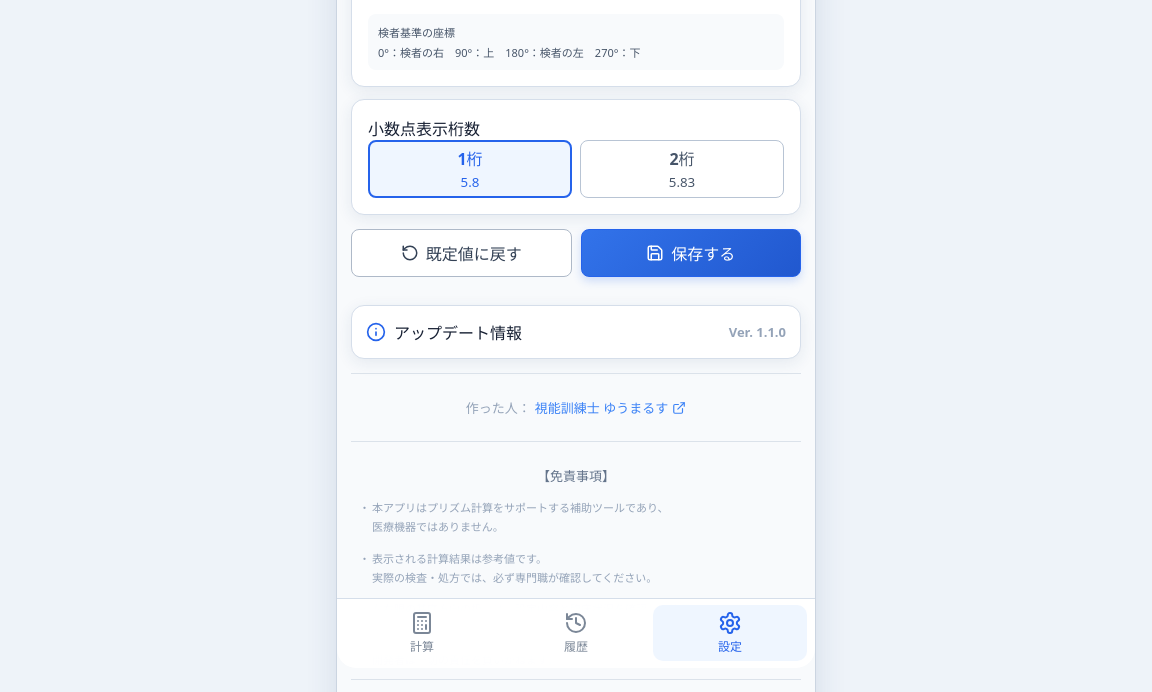
SettingsPage › アップデート履歴を最新順のモーダルで表示して閉じられる
(page scrolled)
Click the button "アップデート情報 Ver. 1.1.0" at (458, 333), box [351, 305, 801, 359]
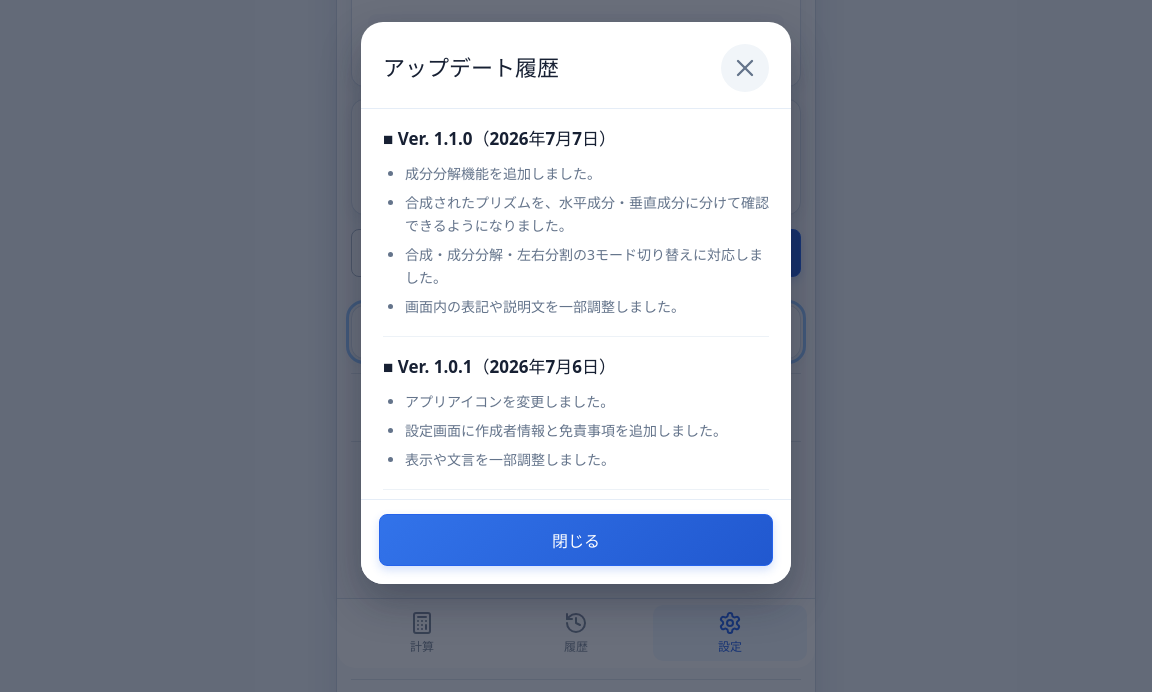
Expected: the dialog "アップデート履歴" is shown, [361, 22, 791, 584]
Expected: the list item "成分分解機能を追加しました。" is shown, [405, 164, 601, 183]
Expected: the list item "アプリアイコンを変更しました。" is shown, [405, 392, 614, 411]
Click the button "閉じる" at (576, 540), box [379, 514, 773, 566]
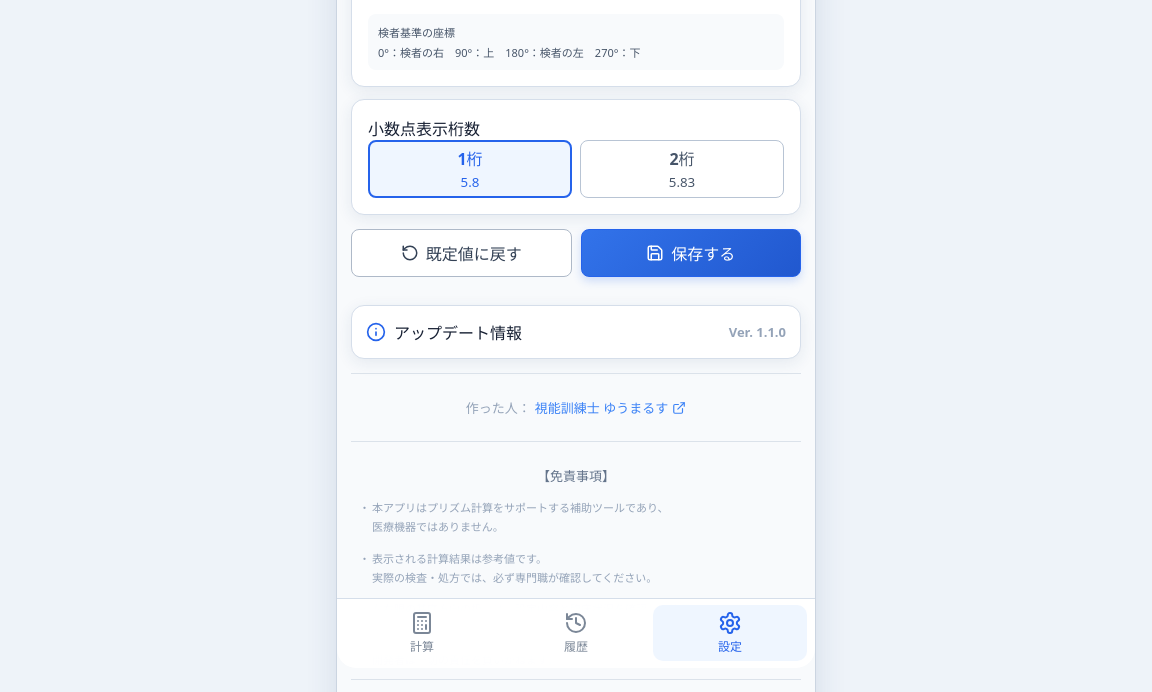
Expected: the heading "アップデート履歴" is gone
